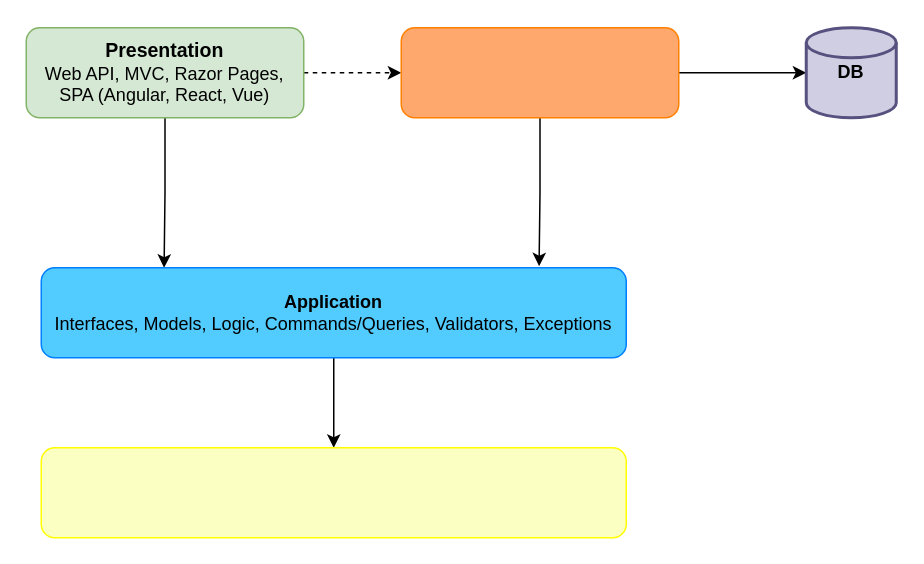
Some shapes in this 924 by 564 pixel diagram are drawn without their labels. The shapes that lost their labels are listed below. From the top down, each one's centre as x and y in pixels, then its label:
At [539,72]: "Infrastructure Persistence, Identity, File System, System Clock".
At [333,492]: "Domain Entities, Value Objects, Enumerations, Logic, Exceptions".
